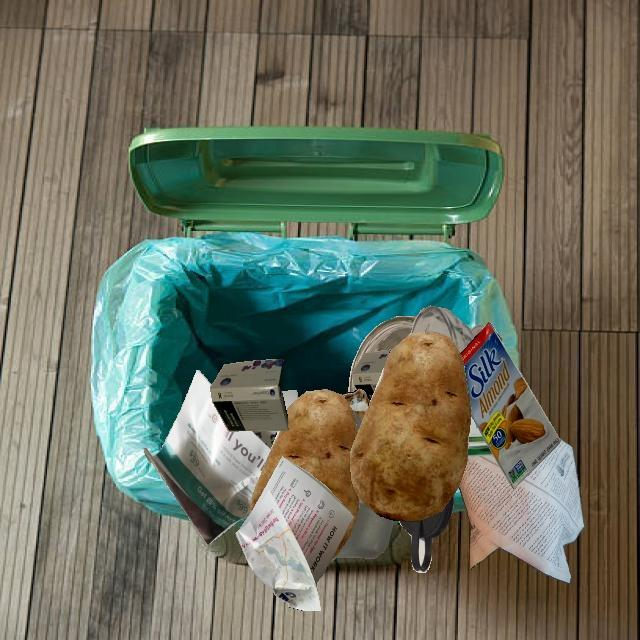biowaste: (350, 331, 471, 522), (250, 389, 360, 558)
cardboard: (460, 322, 561, 489), (210, 359, 288, 431), (352, 350, 392, 399), (341, 388, 371, 422)
glass: (349, 316, 417, 393), (411, 305, 484, 354), (467, 415, 493, 456)
paper: (143, 370, 278, 545), (235, 457, 354, 611), (459, 438, 584, 584)
plastic: (399, 495, 453, 572), (331, 499, 394, 561)
